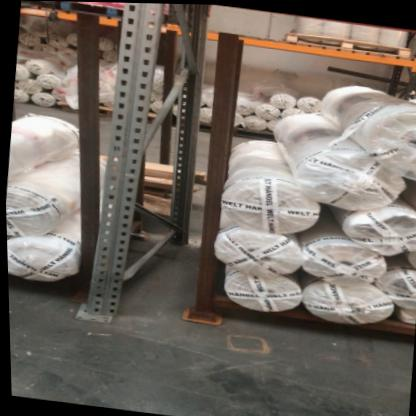vertical_damage: (65, 275, 135, 332)
